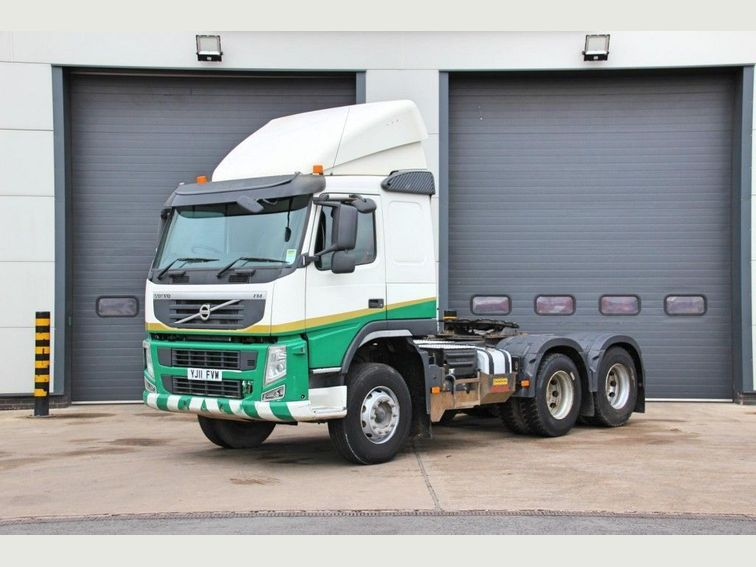Semi: (142, 98, 644, 464)
